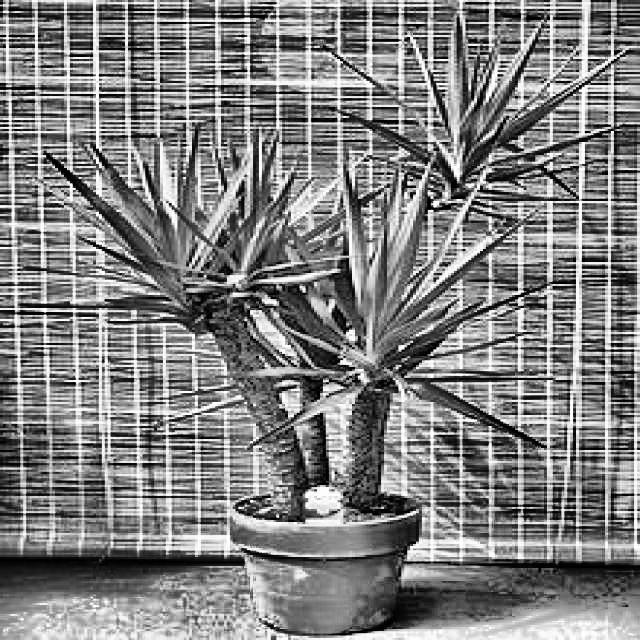plants: (55, 112, 564, 634)
